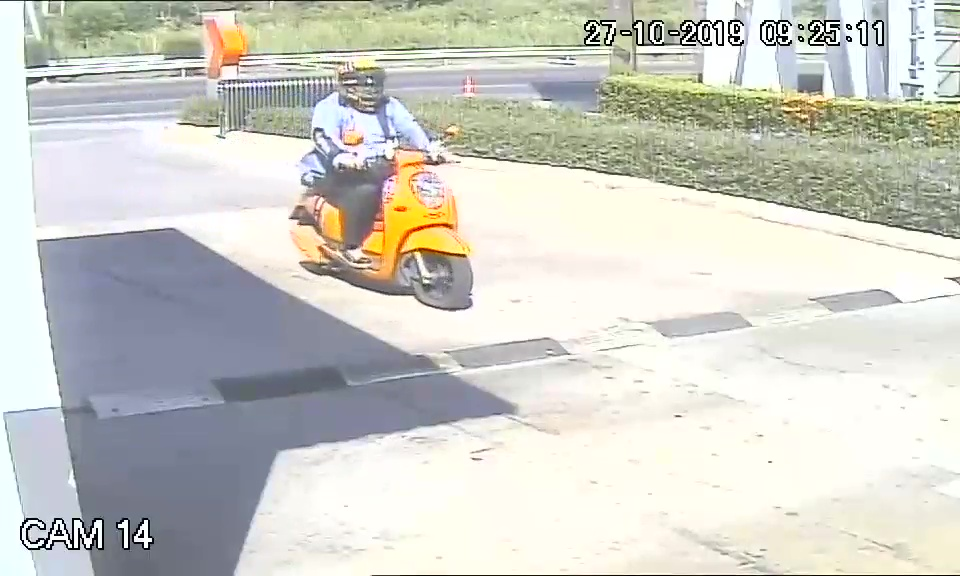motorcycle: (286, 141, 475, 312)
